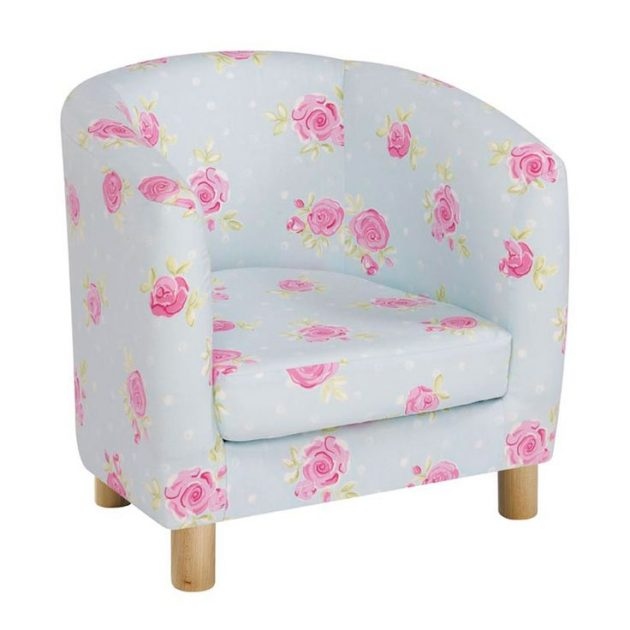chairs: (53, 55, 573, 598)
